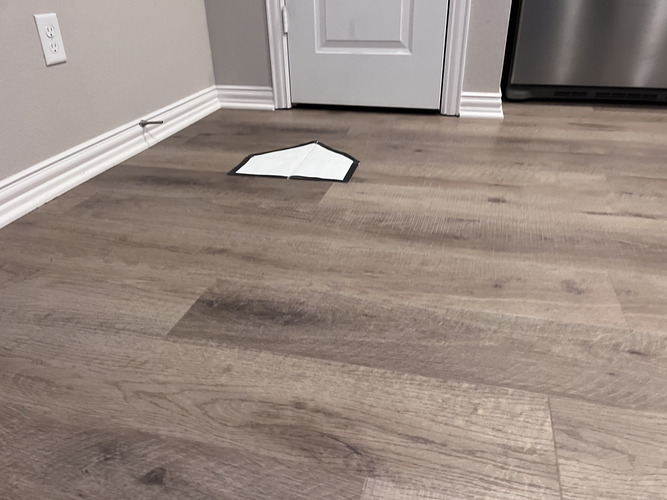homeplate: (226, 141, 359, 183)
